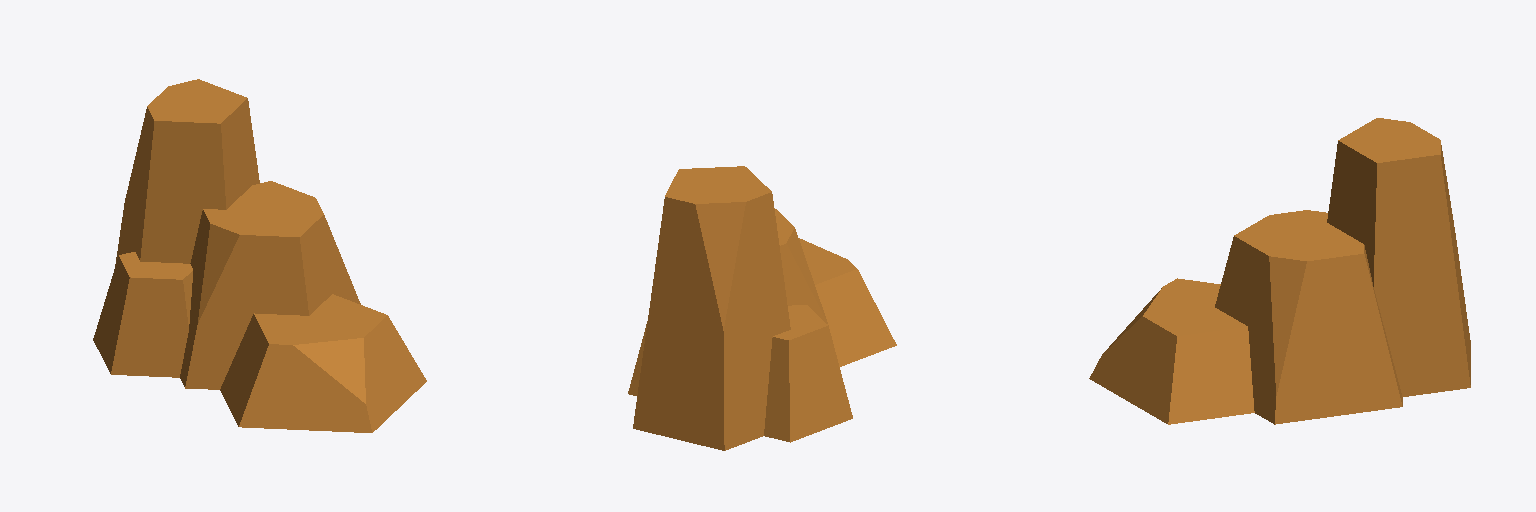
Rendered from rockC3.obj.
3 renders of one model, left to right at view 1: azimuth 30°, elevation 25°; view 2: azimuth 150°, elevation 25°; view 3: azimuth 270°, elevation 25°, orthographic.
Parts seen in each view (by area): view 1: rockC2; view 2: rockC2; view 3: rockC2.
Boxes of the visible parts, <box> form: rockC2: <box>93,79,426,432</box>; rockC2: <box>628,166,896,450</box>; rockC2: <box>1089,118,1470,424</box>.
Bounding box in the file's own units: 2.19 × 2.04 × 3.13.